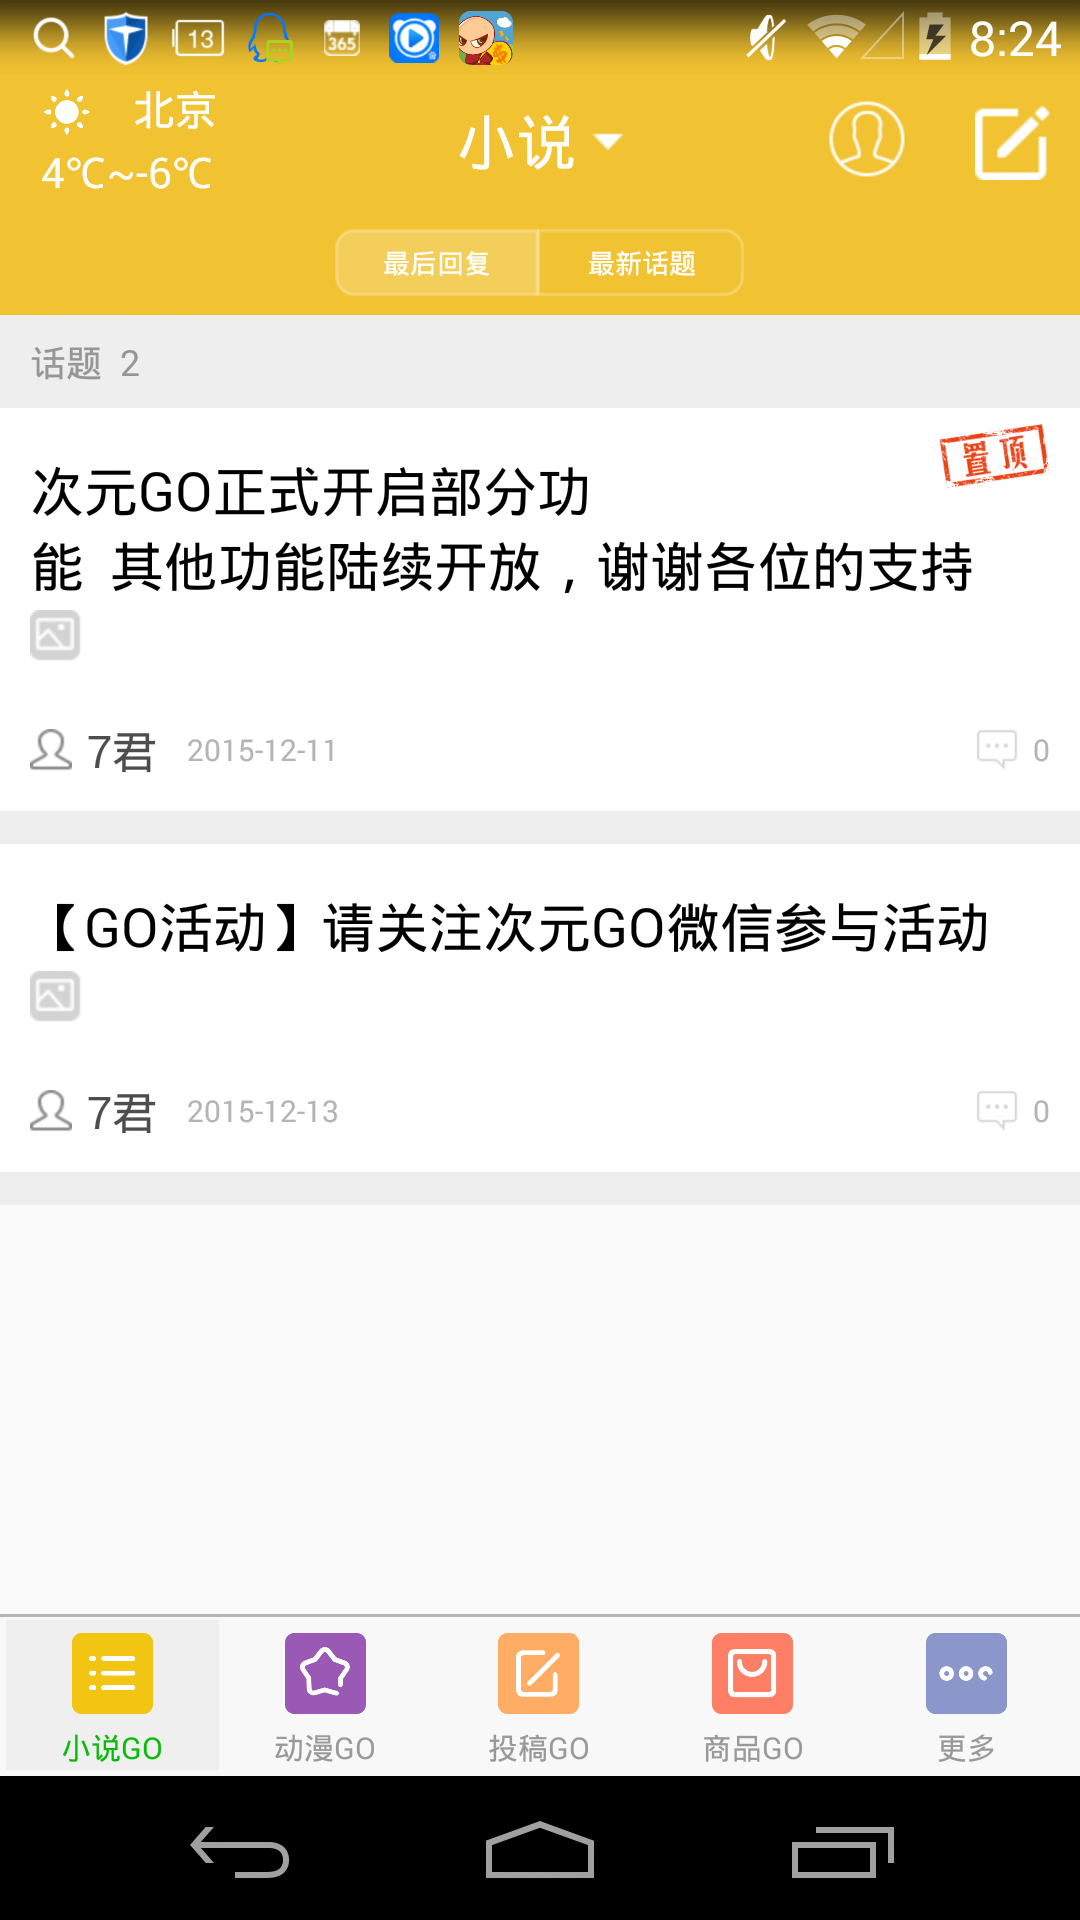button: (338, 224, 775, 299)
imgbutton: (956, 102, 1056, 193), (814, 102, 919, 185)
nav: (33, 1611, 1048, 1791)
textview: (33, 853, 1063, 1048)
